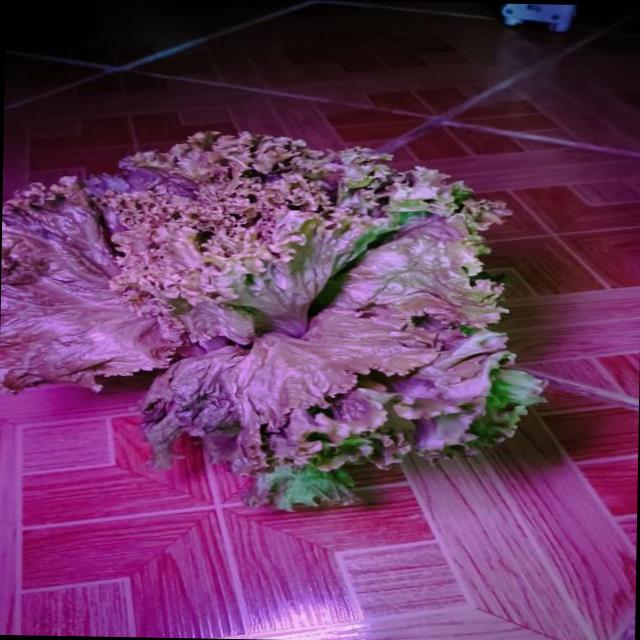Lettuce-Ready-to-Harvest: (0, 132, 541, 508)
